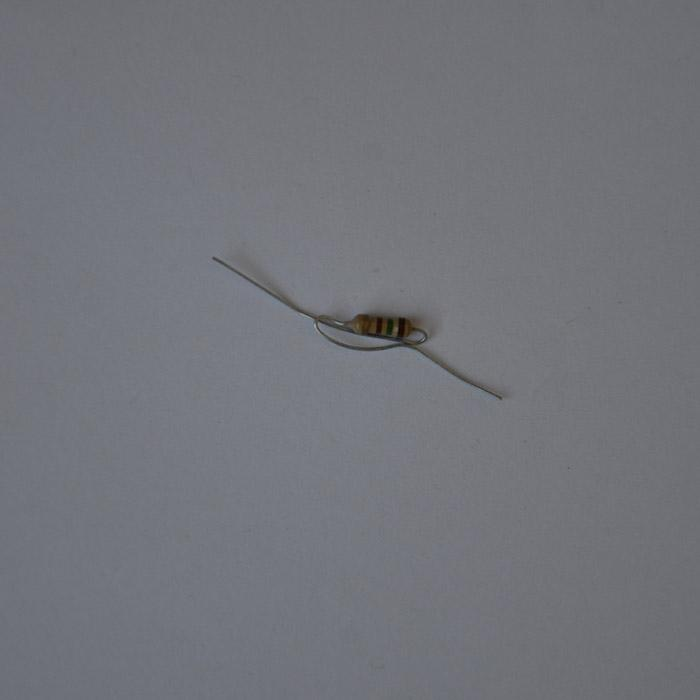resistor: (349, 312, 416, 338)
